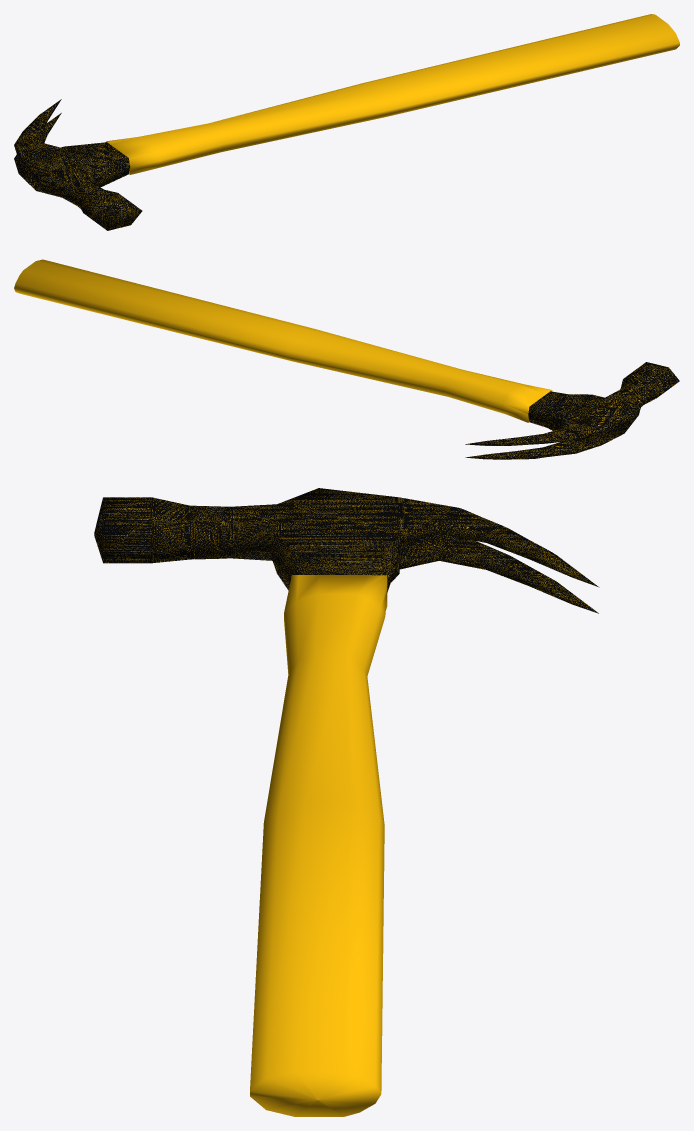
File: hammer_04_origin_gt_1.dae
The picture shows the model from 3 angles, top to bottom: view 1: azimuth 30°, elevation 25°; view 2: azimuth 150°, elevation 25°; view 3: azimuth 270°, elevation 25°; orthographic projection. The views are drawn at different scales.
Visible parts, largest first — view 1: group_0 (×2); view 2: group_0 (×2); view 3: group_0 (×2).
Part boxes in pixels (<box>): group_0 (×2): <box>14,14,679,230</box>; group_0 (×2): <box>14,259,679,459</box>; group_0 (×2): <box>94,488,599,1116</box>.
Size of the model in its own units: 19.45 by 7.02 by 0.7423.
